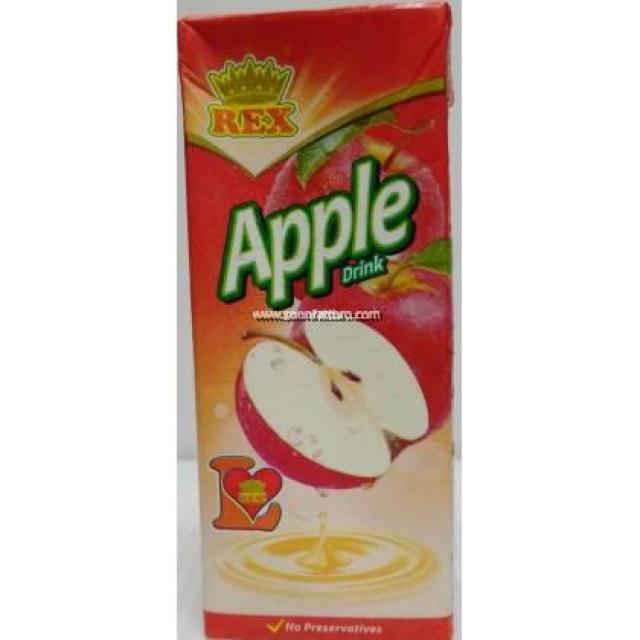drink carton: (174, 0, 462, 640)
